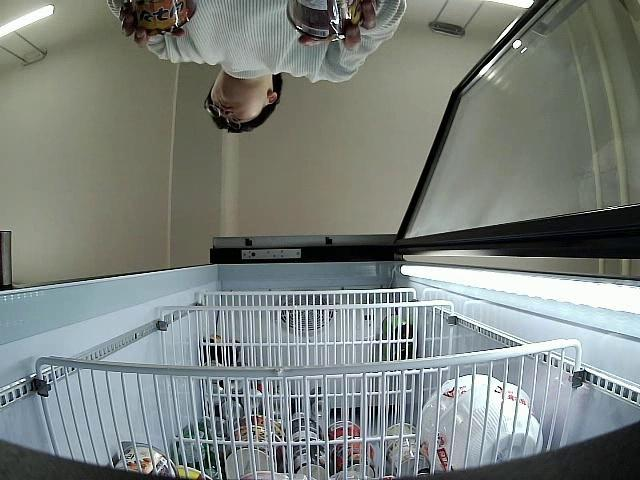06_nuguri_S: (286, 0, 366, 41), (125, 0, 196, 36)
